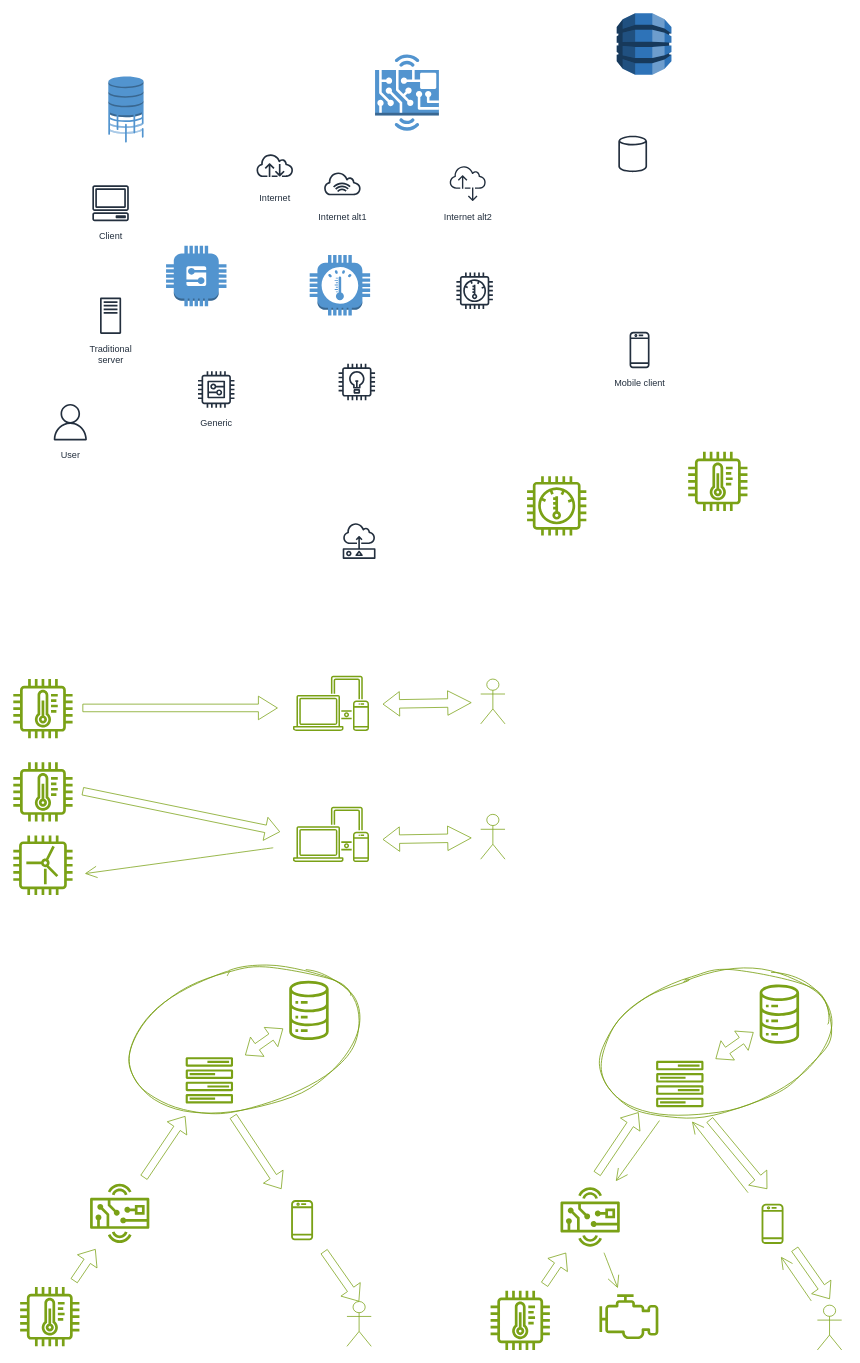
Image size: 860x1363. Some labels were removed from this diagram. The box of each missing label's shape, as (x1, y1, x2, y2) in pixels:
Generic database: (609, 130, 656, 177)
Lightbulb: (333, 358, 380, 405)
Sensor: (336, 517, 382, 564)
Thermostat: (451, 267, 497, 314)
